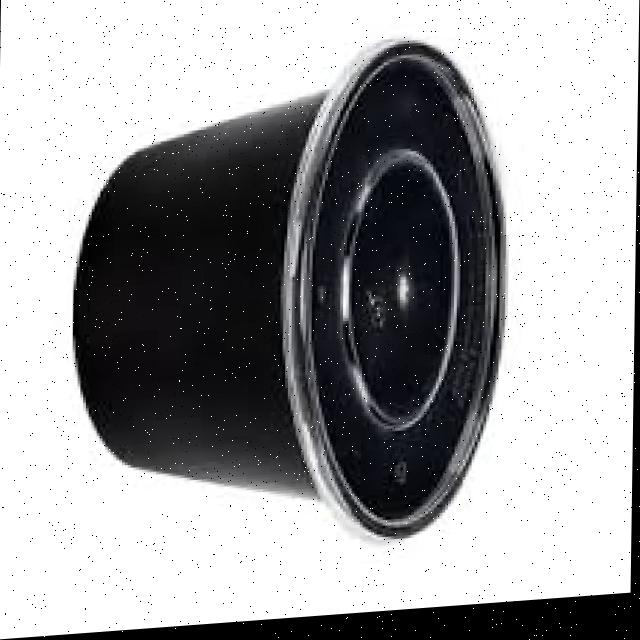disposable: (62, 31, 524, 570)
